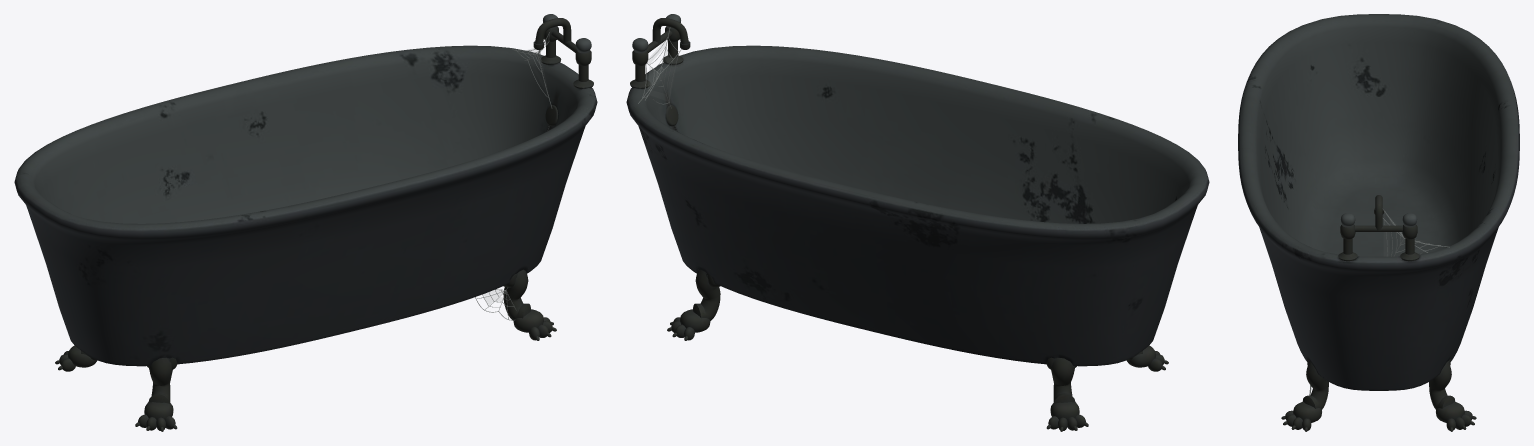
Rendered from clawfoot-bathtub.glb.
The picture shows the model from 3 angles, left to right: view 1: azimuth 30°, elevation 25°; view 2: azimuth 150°, elevation 25°; view 3: azimuth 270°, elevation 25°; orthographic projection. The views are drawn at different scales.
Parts seen in each view (by area): view 1: clawfoot-bathtub_body; view 2: clawfoot-bathtub_body, clawfoot-bathtub_web; view 3: clawfoot-bathtub_body, clawfoot-bathtub_web.
Part boxes in pixels (x1,y1,x2,y2): clawfoot-bathtub_body: (14,14,597,431); clawfoot-bathtub_body: (626,14,1209,431); clawfoot-bathtub_web: (638,27,681,108); clawfoot-bathtub_body: (1238,14,1519,431); clawfoot-bathtub_web: (1382,208,1449,256).
Bounding box in the file's own units: 1.62 × 0.7742 × 0.774.
3 materials, 1 textured.
